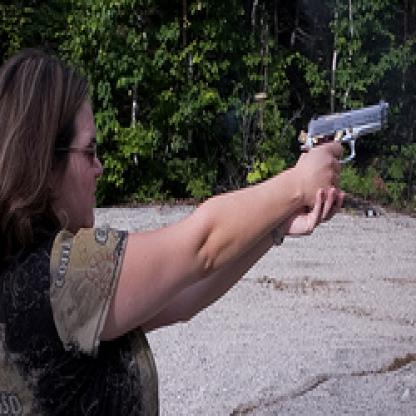gun: (296, 90, 393, 206)
